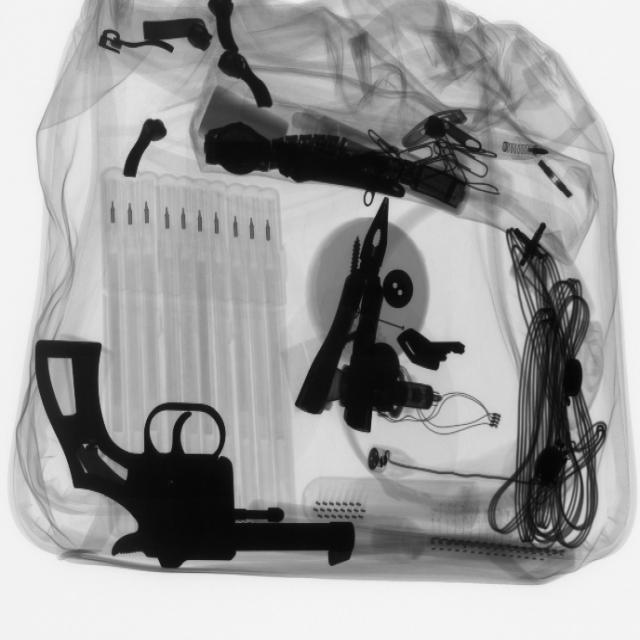BLADE: (533, 158, 575, 202)
GUN: (39, 335, 360, 565)
